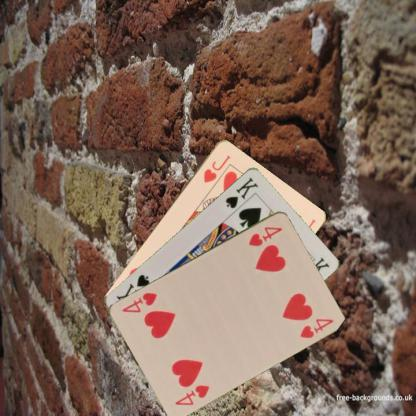4h: (172, 382, 211, 407), (246, 224, 284, 247)
Jh: (200, 152, 232, 184)
Ks: (222, 174, 260, 210)
